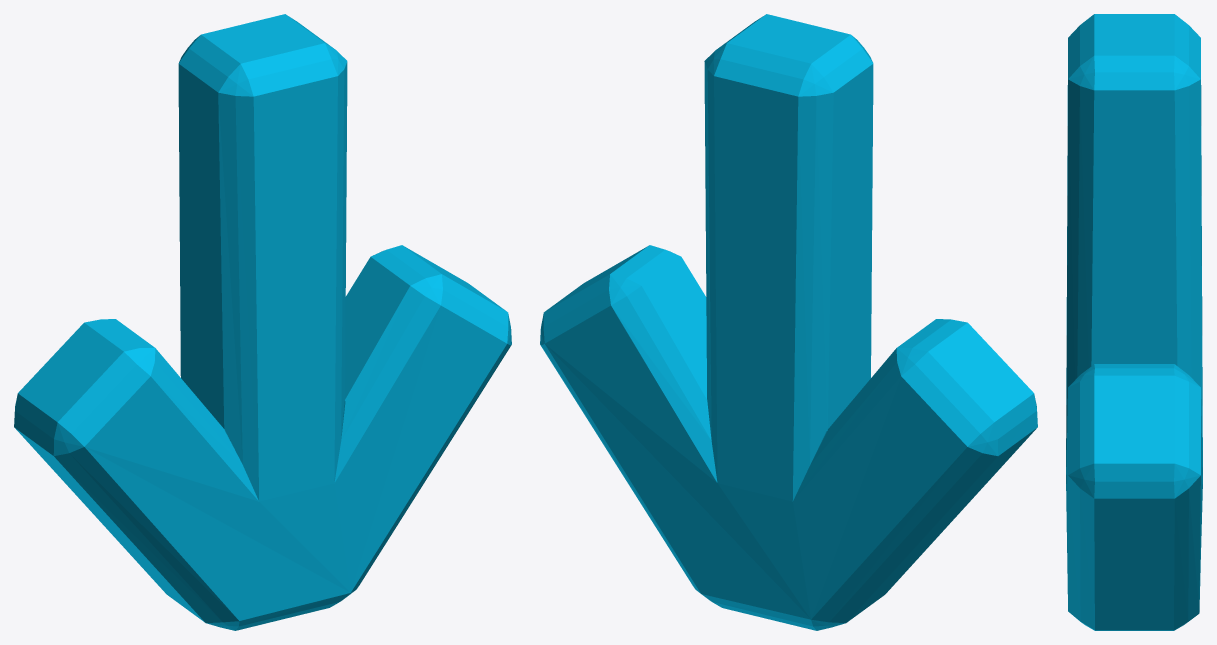
File: Arrow.FBX
3 views of the same model, side by side, from view 1: azimuth 30°, elevation 25°; view 2: azimuth 150°, elevation 25°; view 3: azimuth 270°, elevation 25° (orthographic).
Parts seen in each view (by area): view 1: Arrow; view 2: Arrow; view 3: Arrow.
Boxes of the visible parts, x1,y1,x2,y2 form: Arrow: (14, 14, 511, 630); Arrow: (540, 14, 1037, 630); Arrow: (1066, 14, 1202, 630).
Bounding box in the file's own units: 1.29 × 1.52 × 0.3299.
